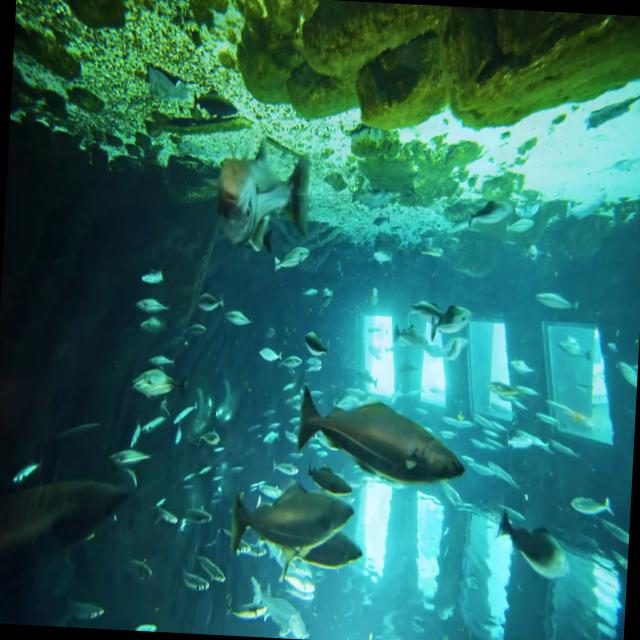fish: (298, 384, 468, 488), (215, 156, 312, 254), (231, 488, 355, 556), (492, 512, 575, 584), (280, 530, 364, 586), (250, 572, 308, 640), (428, 302, 472, 348), (134, 366, 190, 401)
